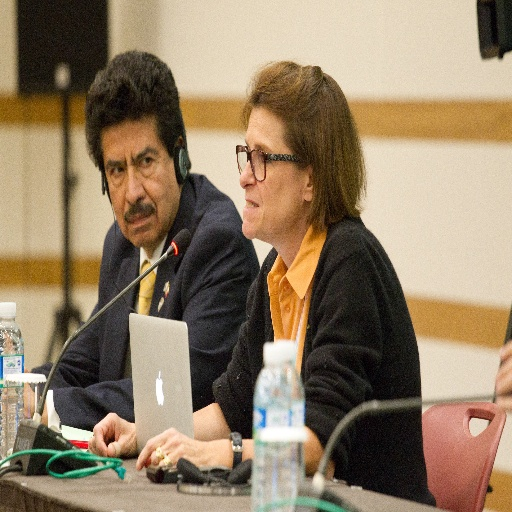hand: (135, 427, 212, 474), (90, 408, 145, 473), (0, 377, 47, 427)
